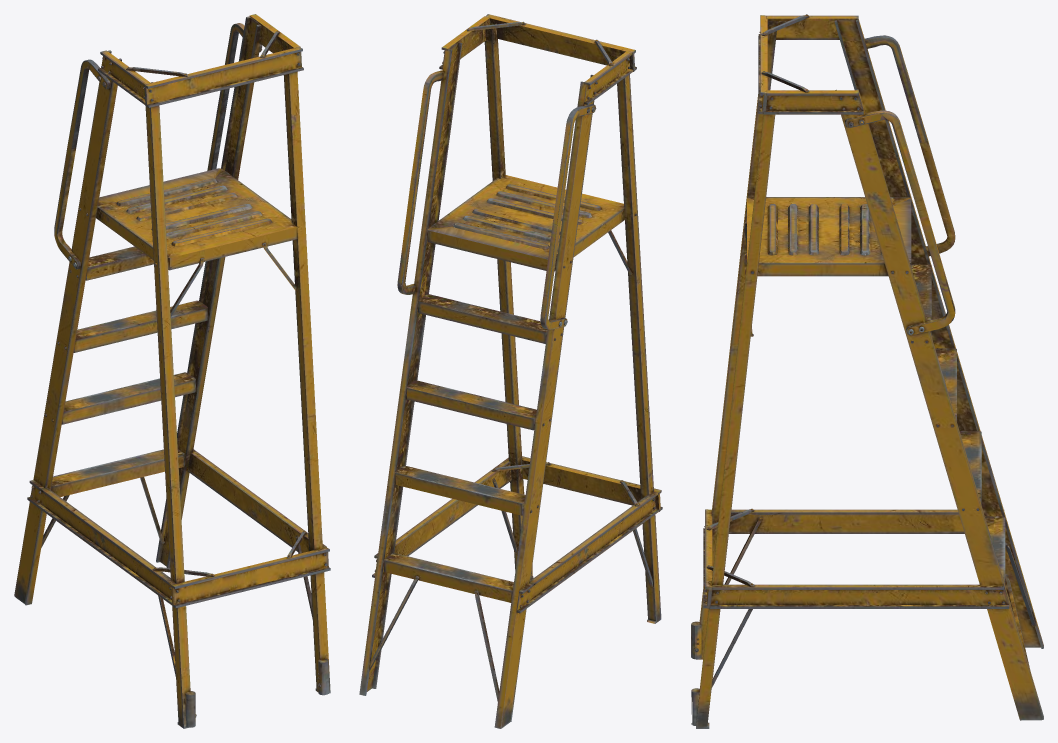
The model's file is step_ladder.glb.
The picture shows the model from 3 angles, left to right: view 1: azimuth 30°, elevation 25°; view 2: azimuth 150°, elevation 25°; view 3: azimuth 270°, elevation 25°; orthographic projection. The views are drawn at different scales.
Parts seen in each view (by area): view 1: dock; view 2: dock; view 3: dock.
Part boxes in pixels (x1=…): dock: x1=14, y1=14, x2=330, y2=728; dock: x1=359, y1=14, x2=662, y2=728; dock: x1=691, y1=14, x2=1043, y2=728.
Bounding box in the file's own units: 0.7086 × 2.66 × 1.33.
Materials: 1 (1 with a texture image).
